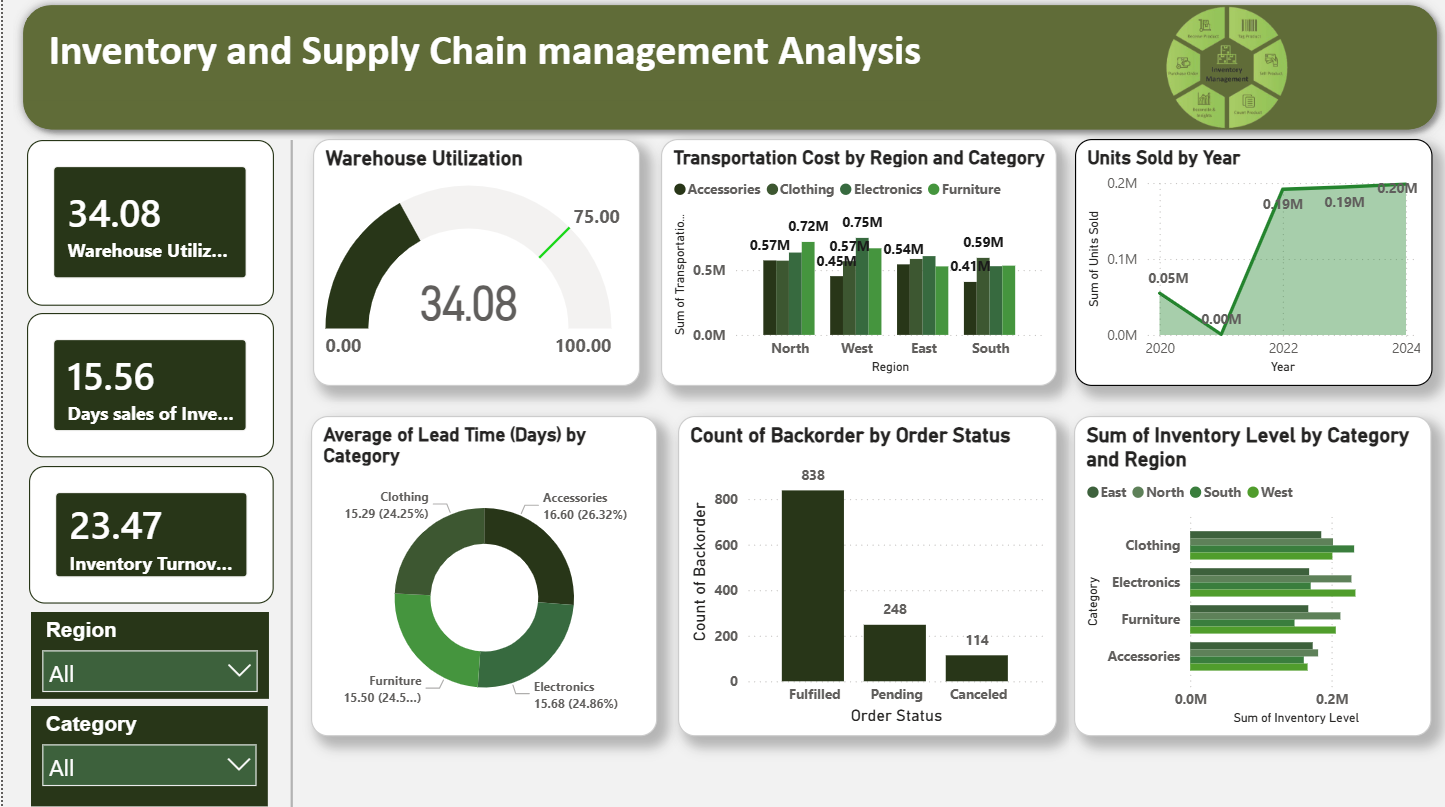

This screenshot's page, from the dashboard's own definition file:
{"tool":"powerbi","page":{"name":"Page 1","canvas":[1280,720],"ordinal":0},"visuals":[{"type":"shape","box":[8.6,0,1271.5,128.2],"z":0},{"type":"textbox","box":[21.6,20.2,812.2,73.4],"z":1000},{"type":"image","box":[918.7,0,332.6,128.2],"z":2000},{"type":"shape","box":[236.2,128.2,40.3,591.8],"z":3000},{"type":"cardVisual","fields":{"Data":["Calculations.Warehouse Utilization"]},"box":[21.6,128.2,218.9,146.9],"z":4000},{"type":"cardVisual","fields":{"Data":["Calculations.Days sales of Inventary"]},"box":[21.6,282.2,218.9,128.2],"z":5000},{"type":"cardVisual","fields":{"Data":["Calculations.Inventory Turnover Ratio"]},"box":[23,417.5,217.4,122.4],"z":6000},{"type":"slicer","fields":{"Values":["Inventory and Supply Chain Dataset.Region"]},"box":[25.2,547.3,210.6,76.6],"z":7000},{"type":"slicer","fields":{"Values":["Inventory and Supply Chain Dataset.Category"]},"box":[24.5,630.7,210.2,89.3],"z":8000},{"type":"gauge","fields":{"Y":["Calculations.Warehouse Utilization"]},"box":[274.7,127.8,289.7,219.4],"z":9000},{"type":"clusteredColumnChart","title":"Transportation Cost by Region and Category","fields":{"Category":["Inventory and Supply Chain Dataset.Region"],"Series":["Inventory and Supply Chain Dataset.Category"],"Y":["Sum(Inventory and Supply Chain Dataset.Transportation Cost)"]},"box":[583.6,128,350.7,218.7],"z":10000},{"type":"lineChart","title":"Units Sold by Year","fields":{"Category":["Inventory and Supply Chain Dataset.Year"],"Y":["Sum(Inventory and Supply Chain Dataset.Units Sold)"]},"box":[950.4,128,317.5,218.7],"z":11000},{"type":"donutChart","fields":{"Category":["Inventory and Supply Chain Dataset.Category"],"Y":["Avg(Inventory and Supply Chain Dataset.Lead Time (Days))"]},"box":[273.1,372.9,307.4,284.2],"z":12000},{"type":"columnChart","fields":{"Category":["Inventory and Supply Chain Dataset.Order Status"],"Y":["CountNonNull(Inventory and Supply Chain Dataset.Backorder)"]},"box":[598.7,372.9,335.6,284.2],"z":13000},{"type":"clusteredBarChart","fields":{"Category":["Inventory and Supply Chain Dataset.Category"],"Series":["Inventory and Supply Chain Dataset.Region"],"Y":["Sum(Inventory and Supply Chain Dataset.Inventory Level)"]},"box":[950,373,317,284],"z":14000}]}

Visuals, with their boxes in screenshot pixels (x1, y1, x2, y2), scaled from the page's 1280x720 canvas onto the 1445x807 screenshot:
shape: left=10, top=0, right=1444, bottom=144
textbox: left=24, top=23, right=941, bottom=105
image: left=1037, top=0, right=1413, bottom=144
shape: left=267, top=144, right=312, bottom=806
cardVisual - Calculations.Warehouse Utilization: left=24, top=144, right=272, bottom=308
cardVisual - Calculations.Days sales of Inventary: left=24, top=316, right=272, bottom=460
cardVisual - Calculations.Inventory Turnover Ratio: left=26, top=468, right=271, bottom=605
slicer - Inventory and Supply Chain Dataset.Region: left=28, top=613, right=266, bottom=699
slicer - Inventory and Supply Chain Dataset.Category: left=28, top=707, right=265, bottom=806
gauge - Calculations.Warehouse Utilization: left=310, top=143, right=637, bottom=389
"Transportation Cost by Region and Category" clusteredColumnChart: left=659, top=143, right=1055, bottom=389
"Units Sold by Year" lineChart: left=1073, top=143, right=1431, bottom=389
donutChart - Inventory and Supply Chain Dataset.Category x Avg(Inventory and Supply Chain Dataset.Lead Time (Days)): left=308, top=418, right=655, bottom=736
columnChart - Inventory and Supply Chain Dataset.Order Status x CountNonNull(Inventory and Supply Chain Dataset.Backorder): left=676, top=418, right=1055, bottom=736
clusteredBarChart - Inventory and Supply Chain Dataset.Category x Inventory and Supply Chain Dataset.Region: left=1072, top=418, right=1430, bottom=736
